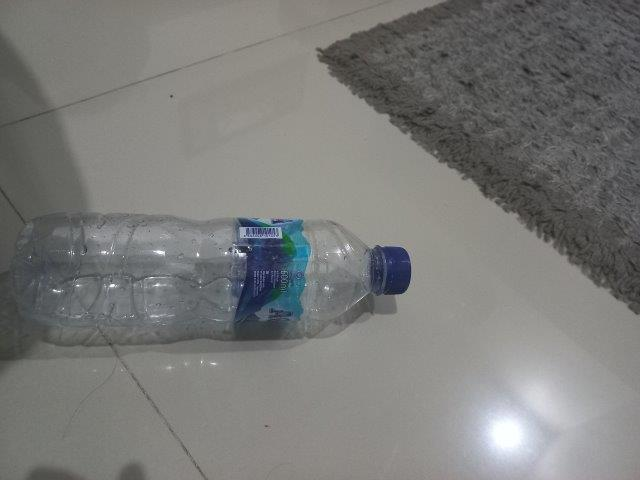botolplastik: (13, 212, 411, 336)
